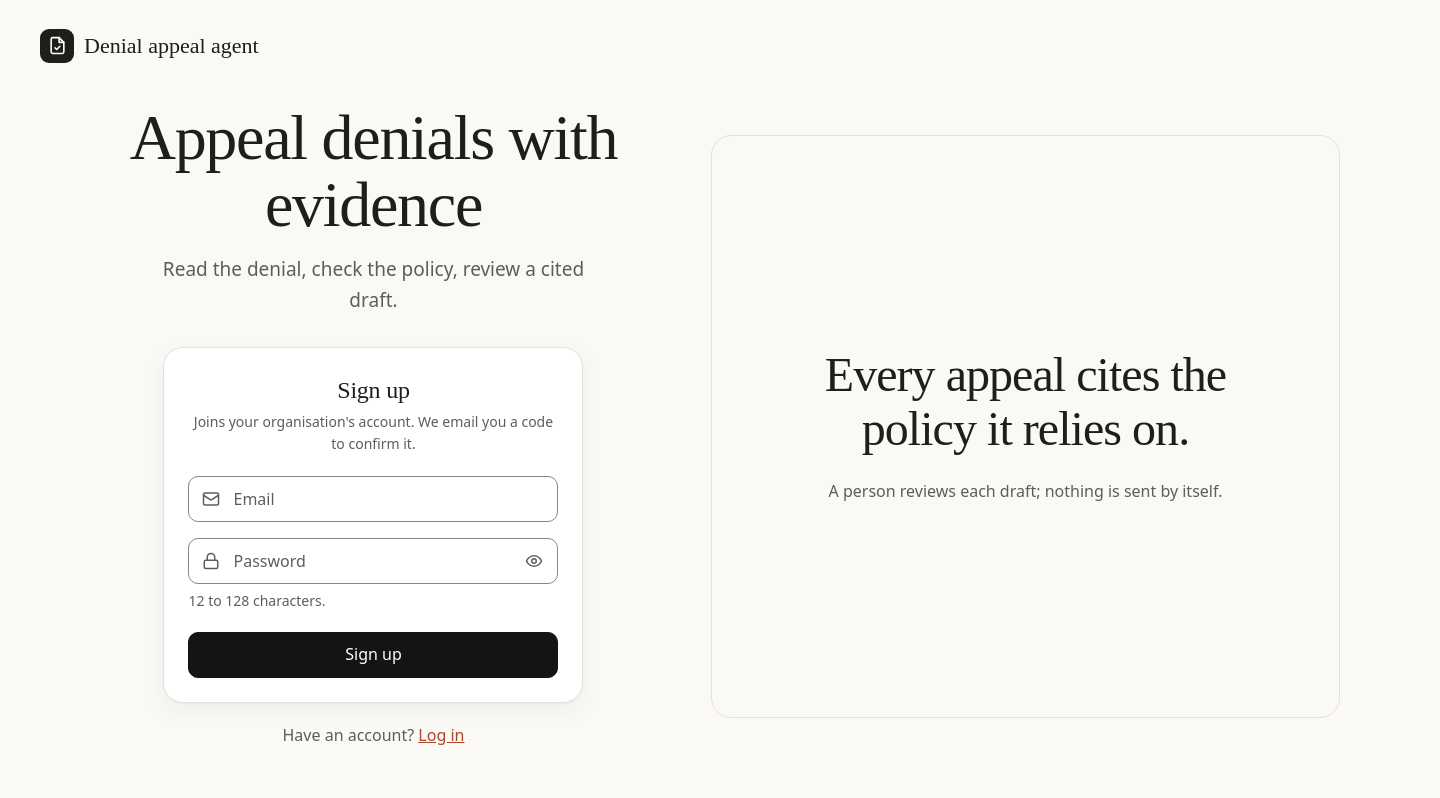
Test: SignupScreen › says email cannot be sent on a 503
Type "ada@example.test" into the field labelled "Email".
click(374, 499); type("ada@example.test")  # box x1=188 y1=476 x2=558 y2=522
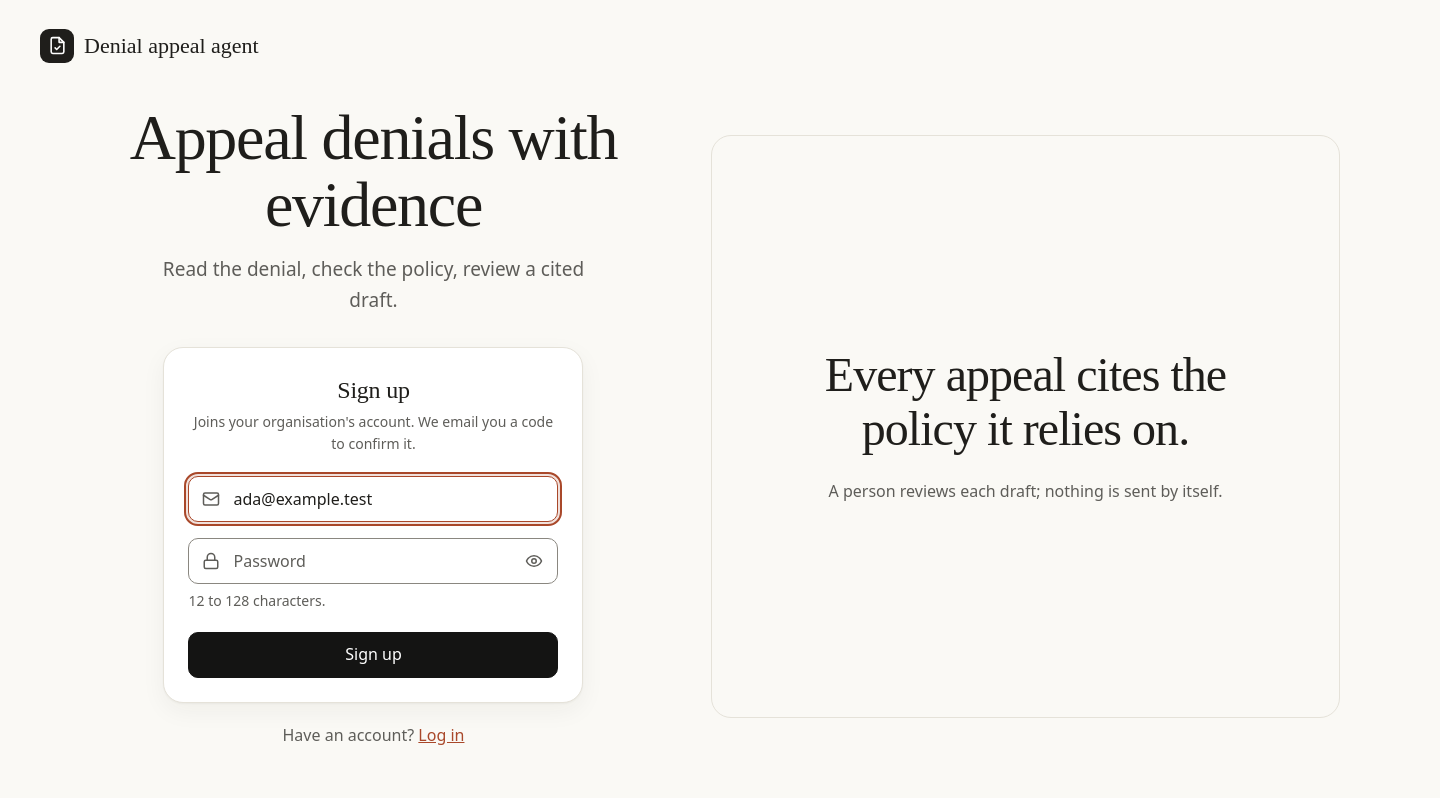
Type "a long made-up password" into the password field labelled "Password".
click(374, 561); type("a long made-up password")  # box x1=188 y1=538 x2=558 y2=584
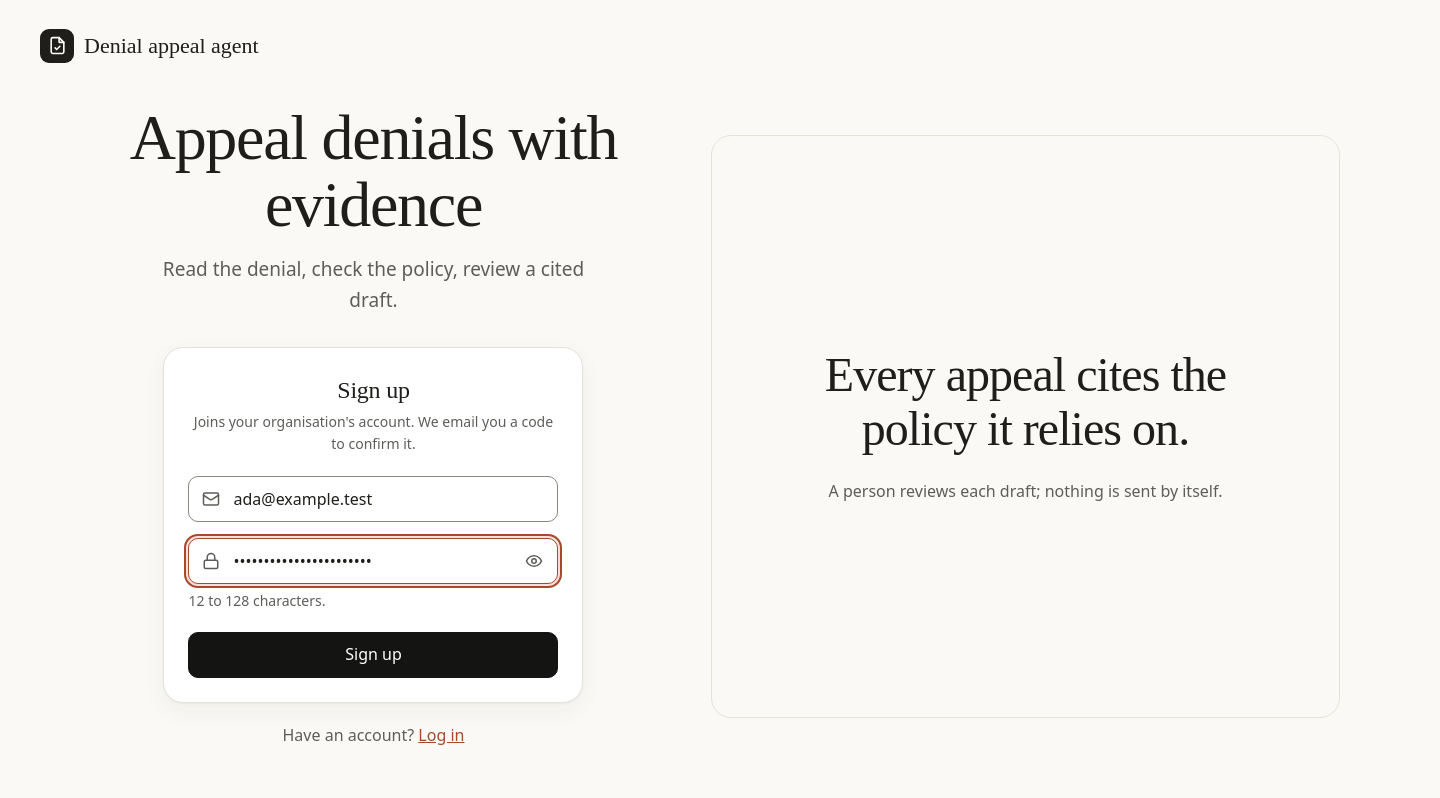
Click the button "Sign up".
click(374, 655)  # box x1=188 y1=632 x2=558 y2=678
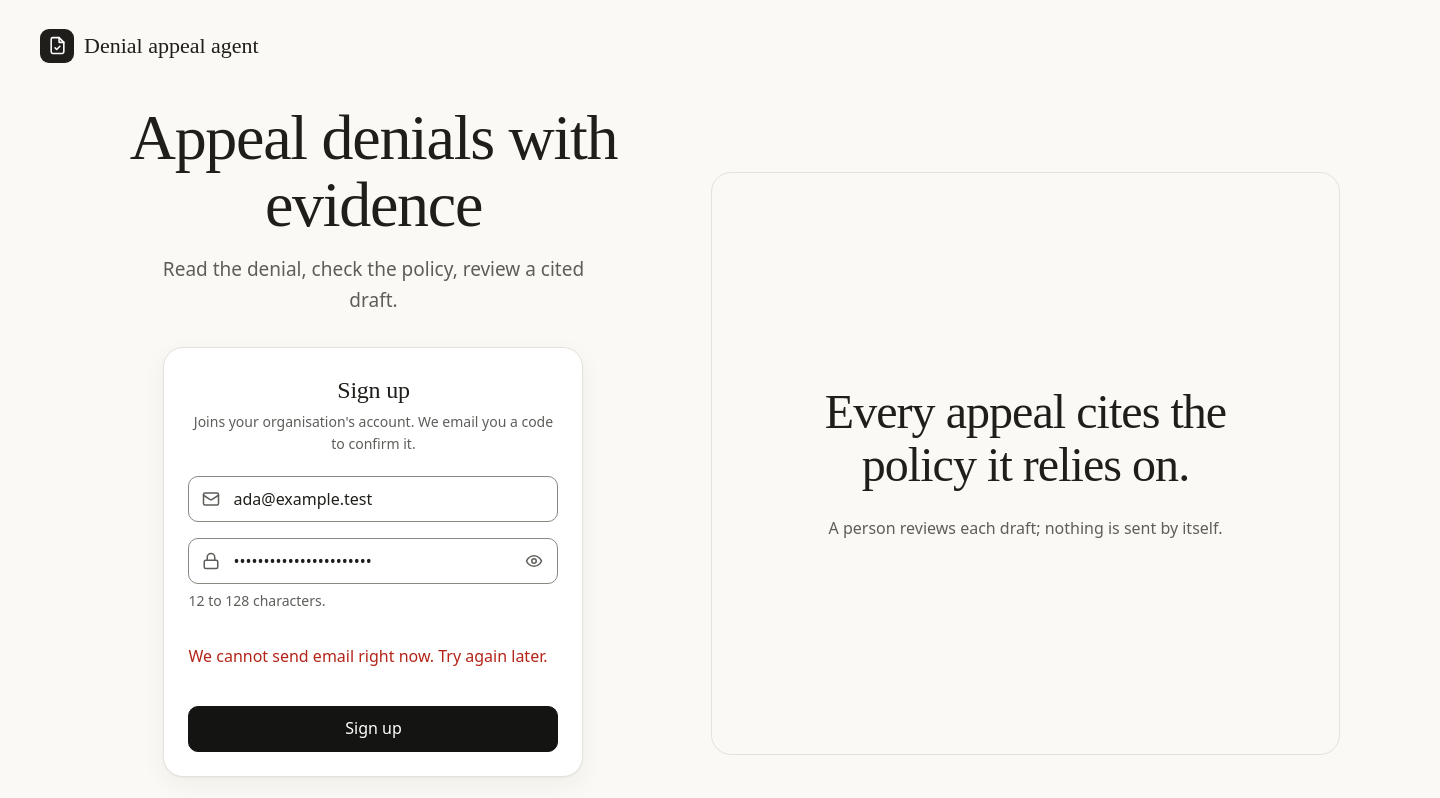
expect the message reads "We cannot send email right now. Try again later.": met, box x1=188 y1=645 x2=548 y2=667
